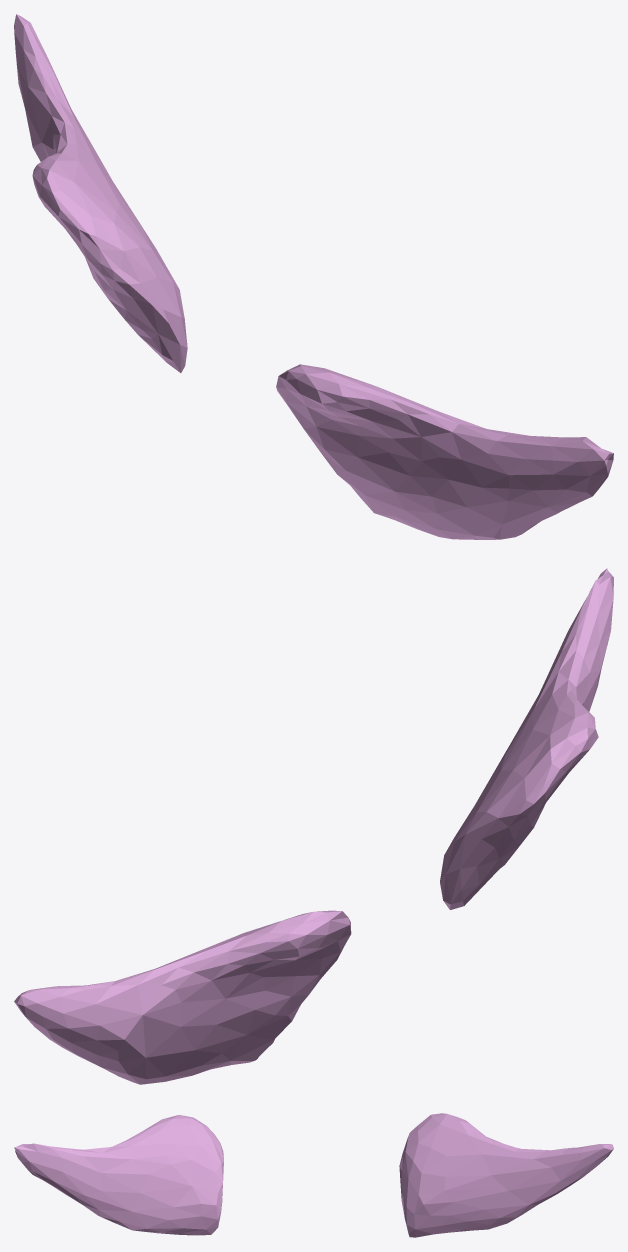
The picture shows the model from 3 angles, top to bottom: view 1: azimuth 30°, elevation 25°; view 2: azimuth 150°, elevation 25°; view 3: azimuth 270°, elevation 25°; orthographic projection. The views are drawn at different scales.
Visible parts, largest first — view 1: 1061.obj; view 2: 1061.obj; view 3: 1061.obj.
Boxes of the visible parts, box(x1,y1,x2,y2) form: 1061.obj: box(14, 14, 613, 539); 1061.obj: box(14, 568, 613, 1084); 1061.obj: box(14, 1113, 613, 1237).
Bounding box in the file's own units: 479 × 597 × 3180.
